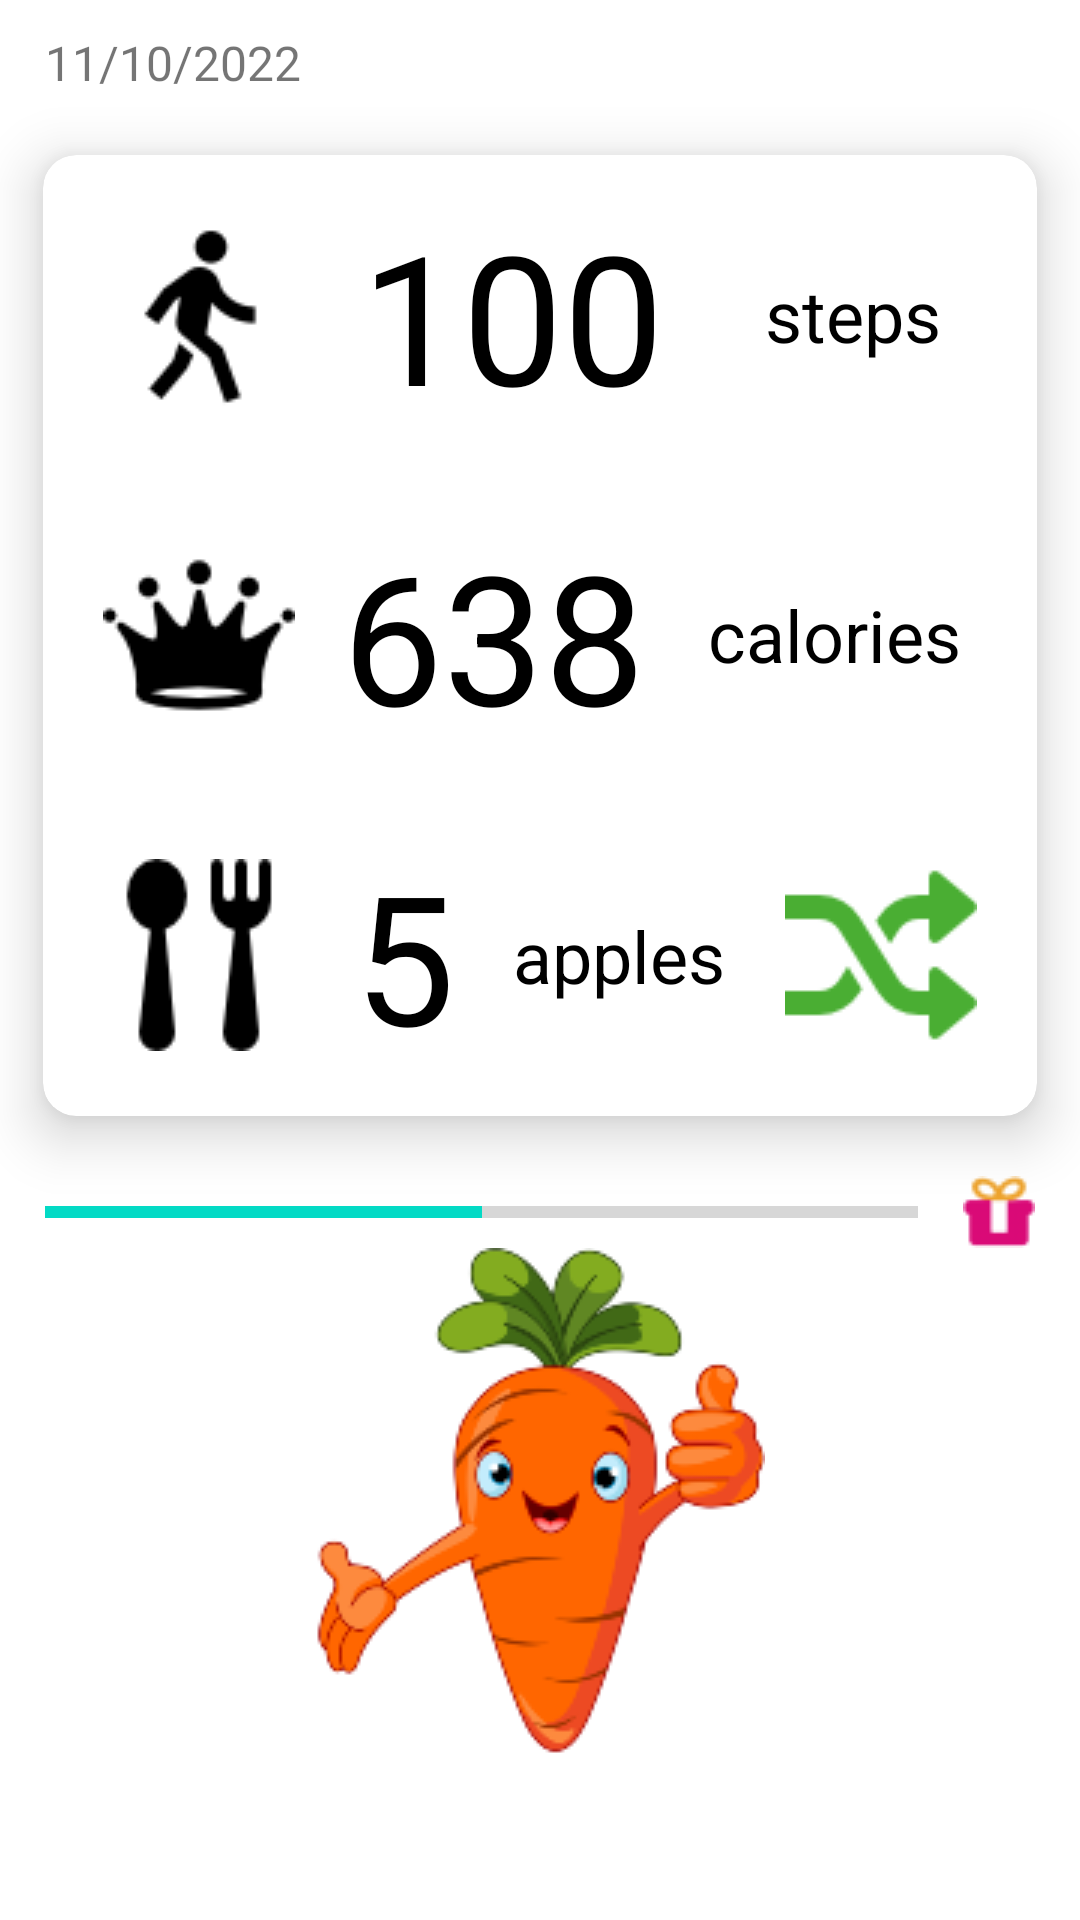

Point at icon controls on the screen. Image size 1080px x 1920px, points as [x,y].
crown: [199,635]
cutlery: [199,955]
gift: [999,1211]
shuffle: [881,955]
walking: [200,316]
